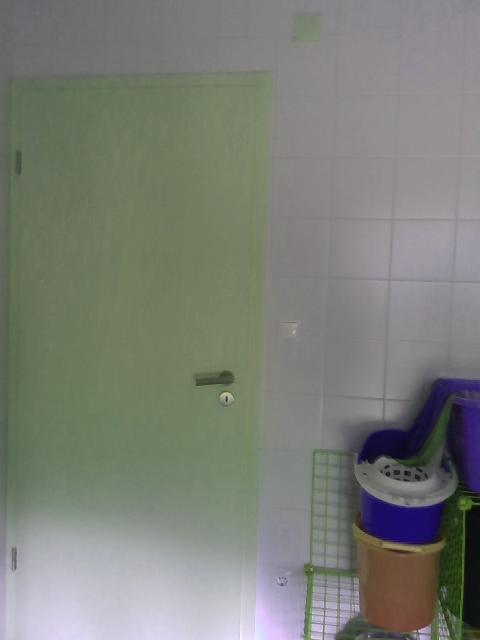closed_door: (2, 68, 270, 639)
